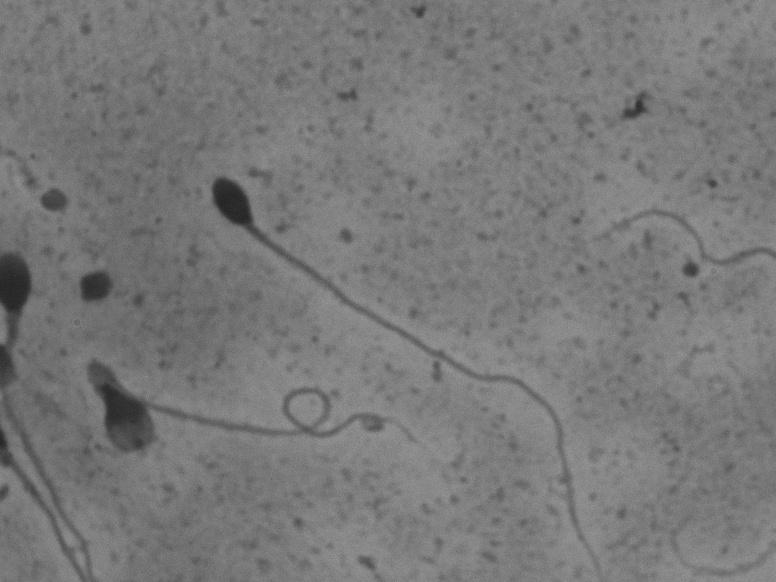Normal: (191, 154, 617, 569)
